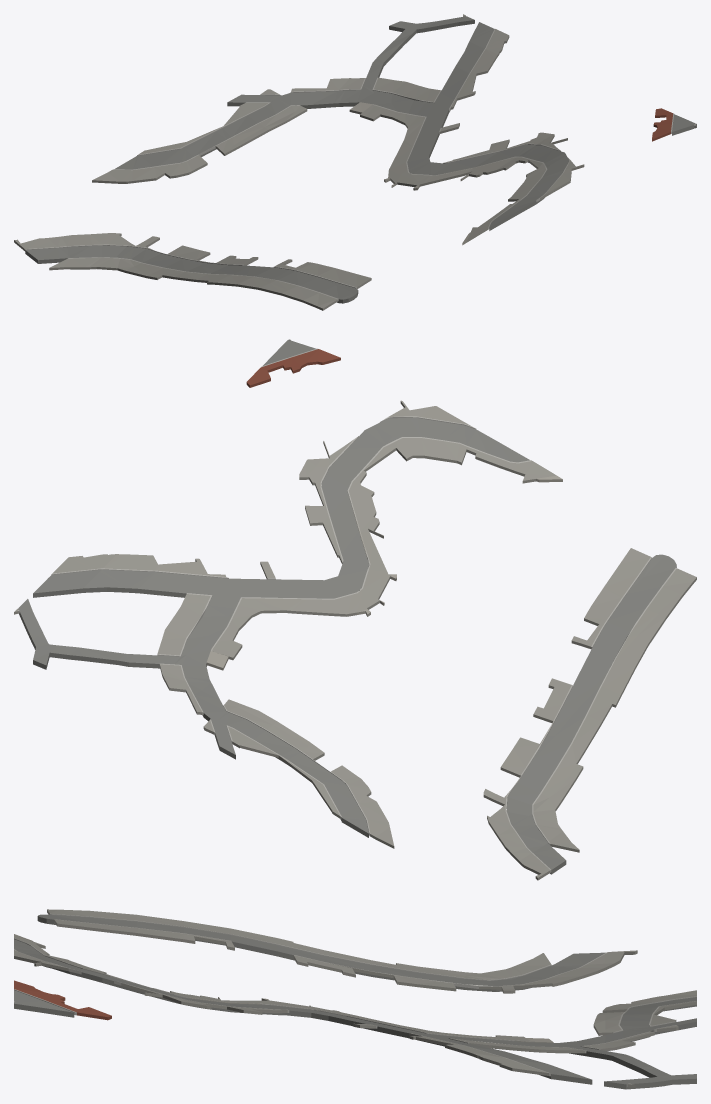
3 views of the same model, one above another, from view 1: azimuth 30°, elevation 25°; view 2: azimuth 150°, elevation 25°; view 3: azimuth 270°, elevation 25° (orthographic). The views are drawn at different scales.
Size of the model in its own units: 147 by 58 by 146.
